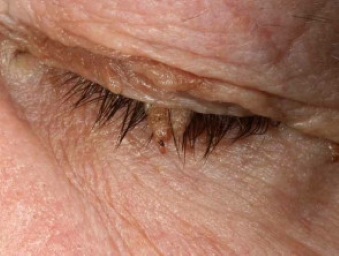seborrheic keratosis: (98, 61, 213, 160)
